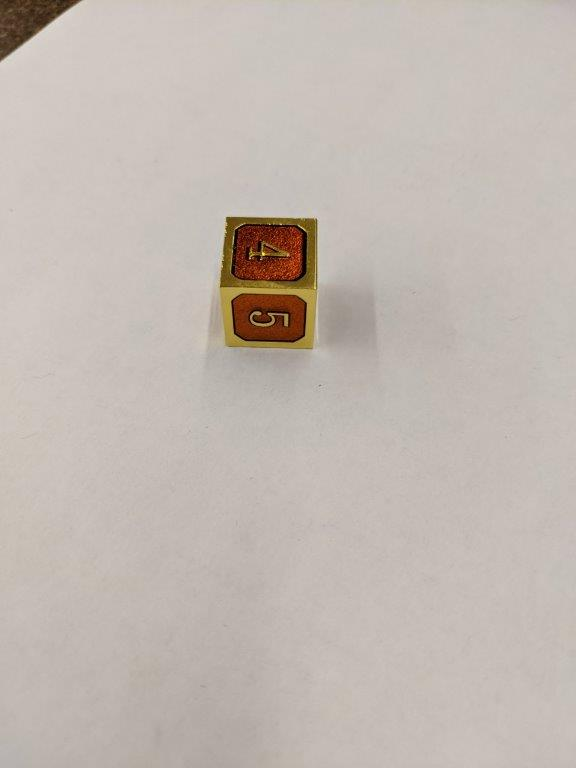d6-4: (220, 215, 320, 349)
